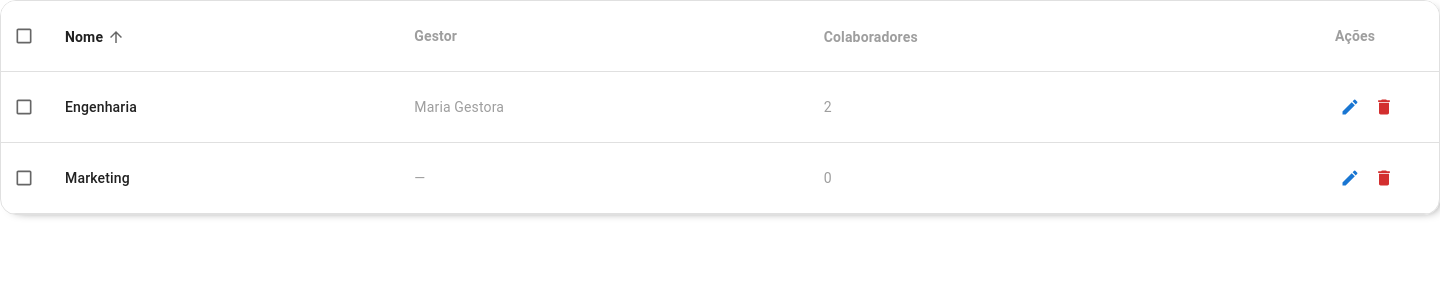
Scenario: DepartmentsList › shows selection bar when at least one row is selected
Check: the text "selecionado(s)" is not shown
What coordinates should you click on to do the following:
click the checkbox named "Selecionar Engenharia"
I would click on:
 (24, 107)
Its box is [14,97,34,117].
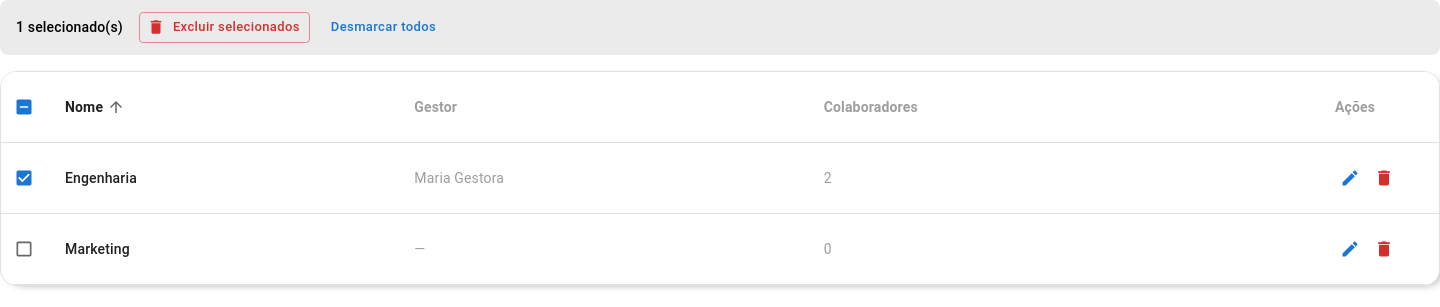
Check: the text "1 selecionado(s)" is shown, box [16,17,123,37]
Check: the button "Excluir selecionados" is shown, box [139,12,310,43]
Check: the button "Desmarcar todos" is shown, box [326,12,441,43]
